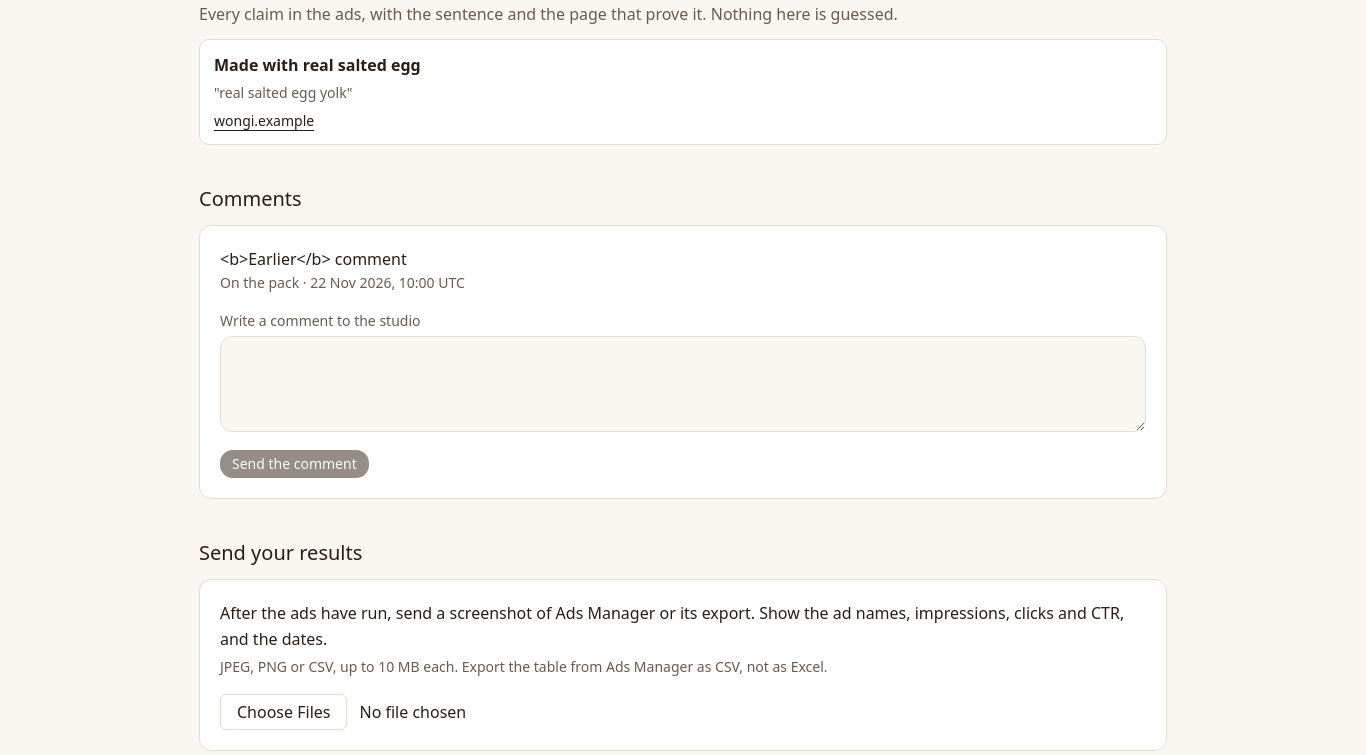
A client's pack page › takes a comment on the pack and shows it, as text and never as markup
(page scrolled)
Check: the text "<b>Earlier</b> comment" is shown, box [220,248,407,270]
Type "We love these." into the text box labelled "Write a comment to the studio".
click(683, 384); type("We love these.")  # box [220,336,1146,432]
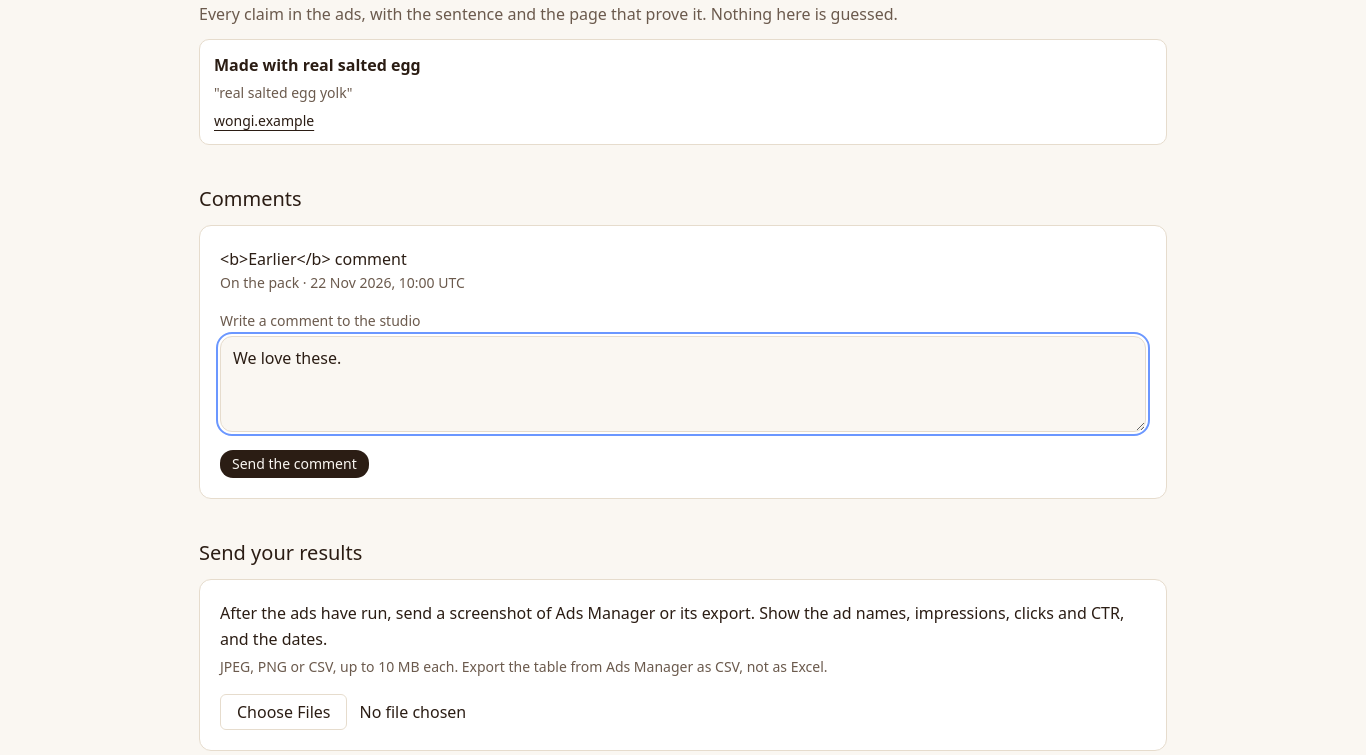
Click the button "Send the comment".
click(294, 464)  # box [220,450,369,478]
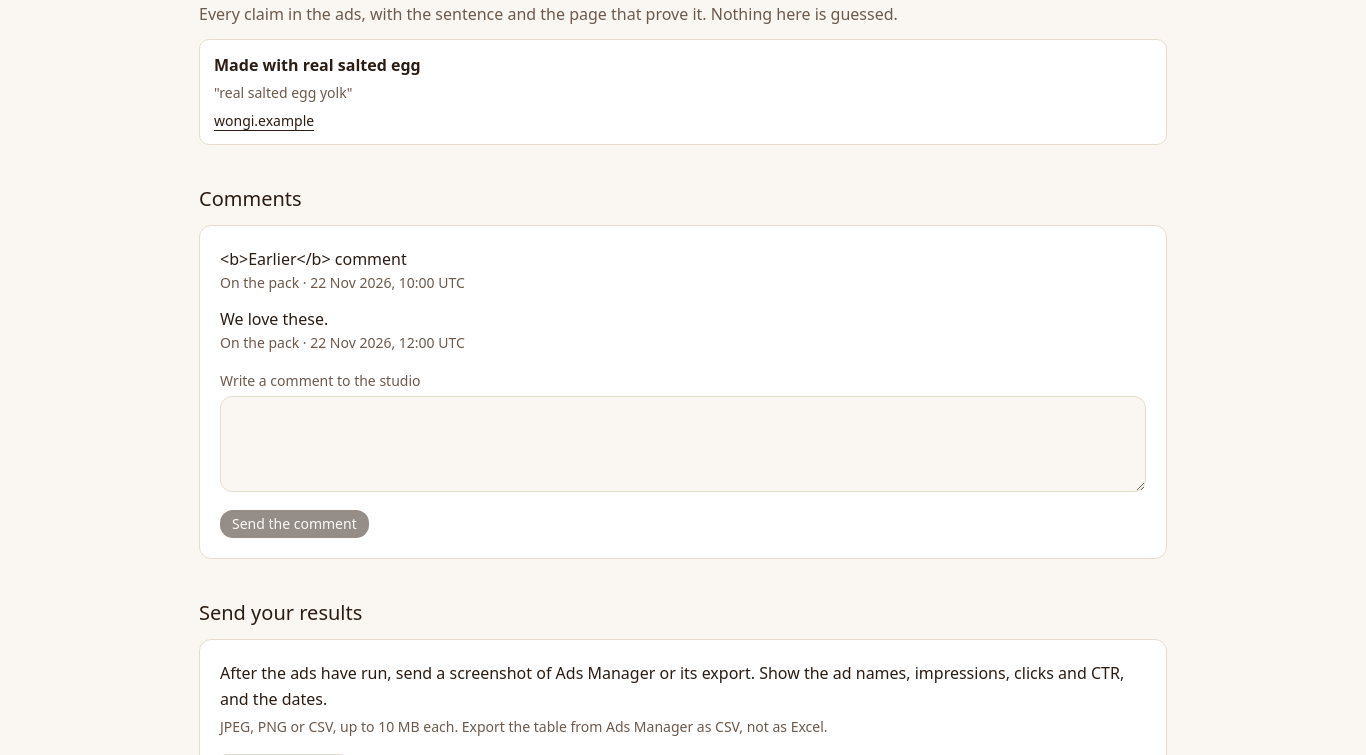
Check: the text "We love these." is shown, box [220,308,328,330]
Check: the text box labelled "Write a comment to the studio" is empty, box [220,396,1146,492]
